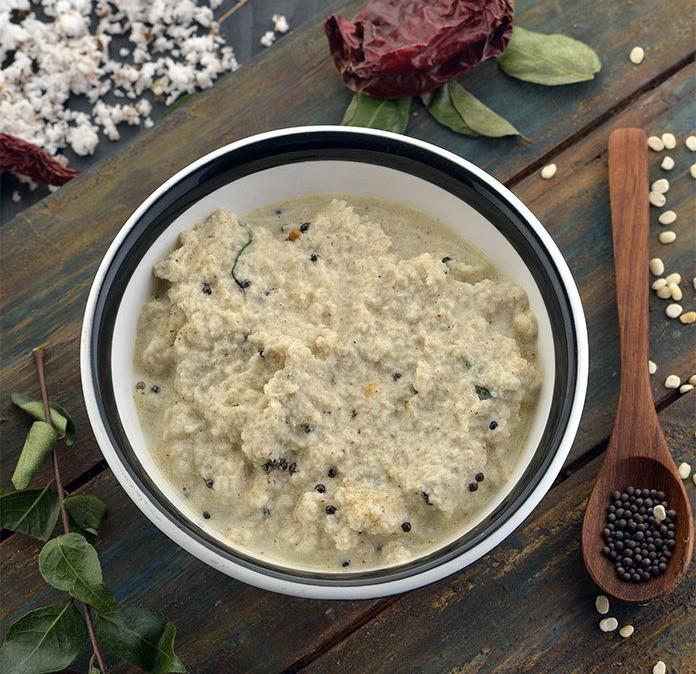CoconutChutney: (131, 194, 536, 572)
